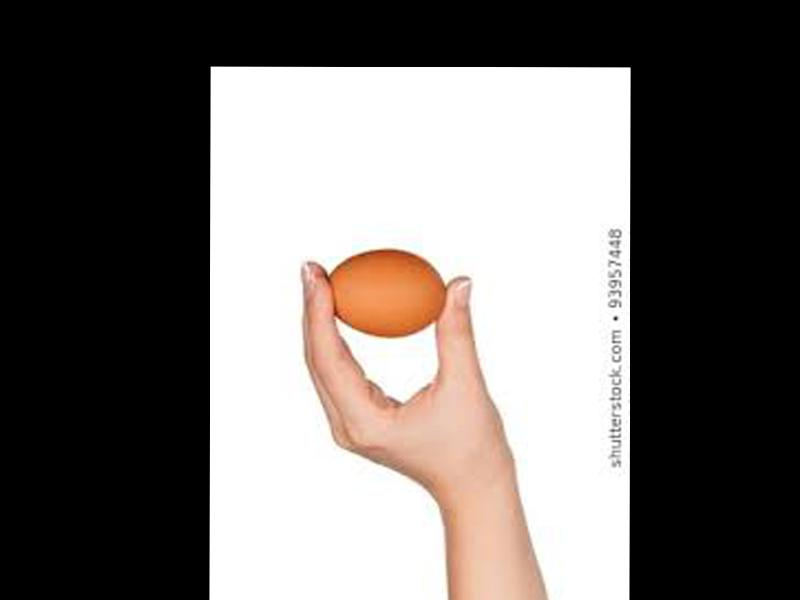Eggs: (320, 249, 447, 336)
